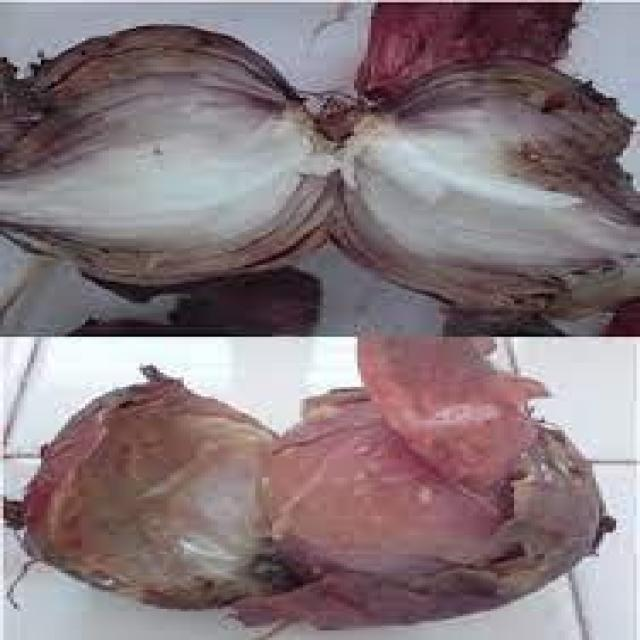Onion: (7, 337, 620, 635), (6, 24, 334, 308), (334, 43, 633, 327)
